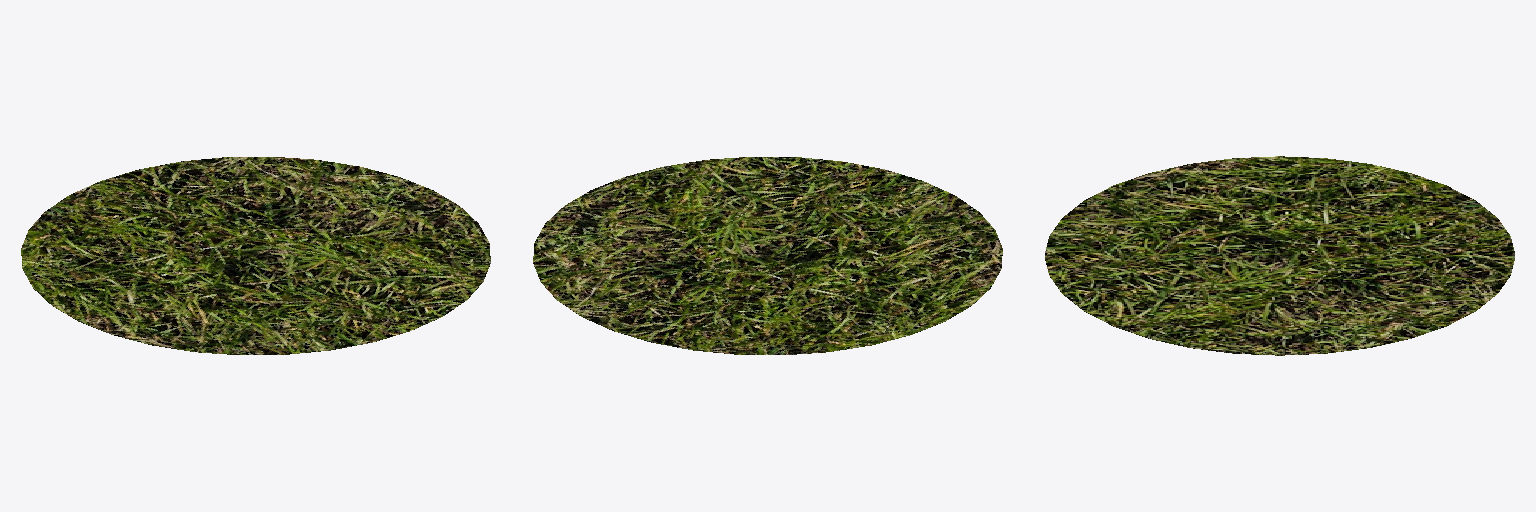
3 renders of one model, left to right at view 1: azimuth 30°, elevation 25°; view 2: azimuth 150°, elevation 25°; view 3: azimuth 270°, elevation 25°, orthographic.
Parts seen in each view (by area): view 1: Cylinder; view 2: Cylinder; view 3: Cylinder.
Boxes of the visible parts, box(x1,y1,x2,y2) form: Cylinder: box(21, 157, 490, 354); Cylinder: box(533, 157, 1002, 354); Cylinder: box(1045, 156, 1514, 355).
Bounding box in the file's own units: 160 × 0.12 × 160.
1 materials, 1 textured.